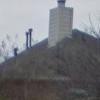Chimney: (42, 3, 84, 50)
